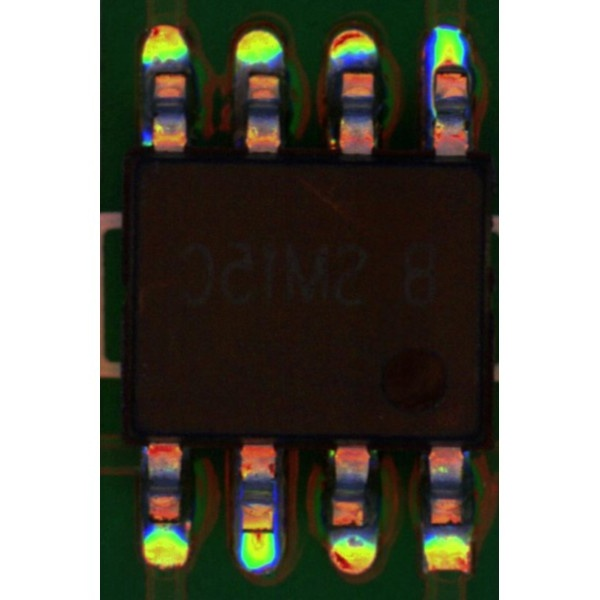Bad_podu: (435, 56, 462, 81), (243, 520, 271, 542)
Bad_qiaojiao: (427, 73, 435, 123)
